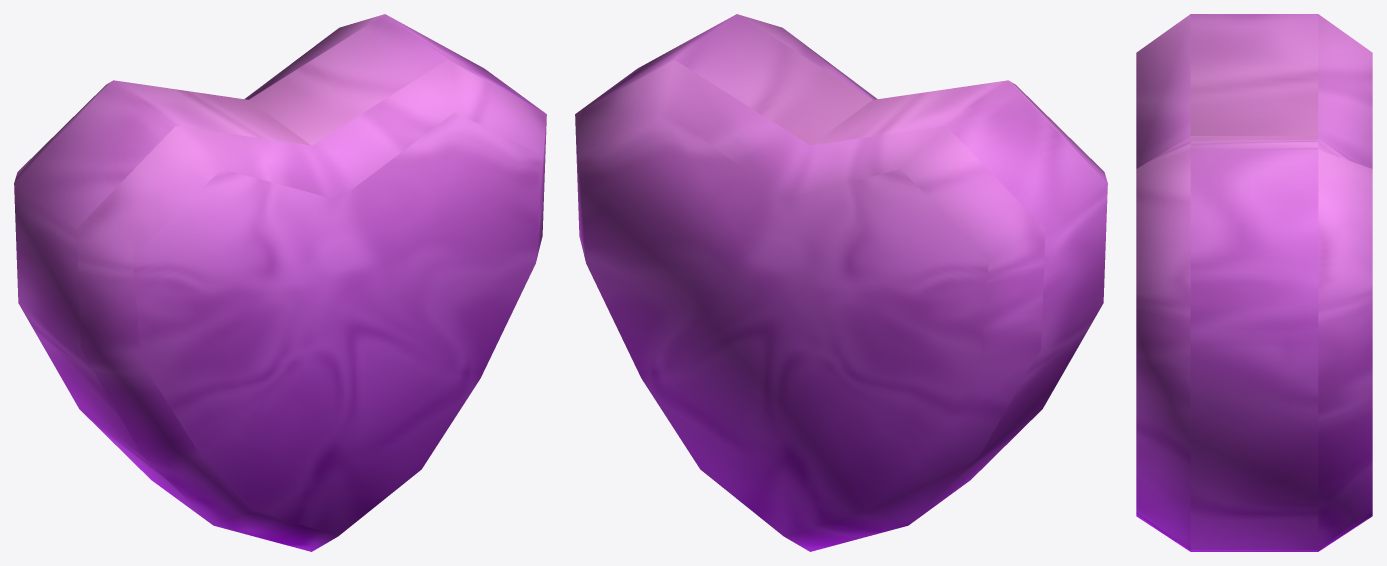
Rendered from candy5.FBX.
The picture shows the model from 3 angles, left to right: view 1: azimuth 30°, elevation 25°; view 2: azimuth 150°, elevation 25°; view 3: azimuth 270°, elevation 25°; orthographic projection. The views are drawn at different scales.
Visible parts, largest first — view 1: candy5; view 2: candy5; view 3: candy5.
Boxes of the visible parts, x1,y1,x2,y2 form: candy5: (14,14,546,551); candy5: (575,14,1107,551); candy5: (1136,14,1372,551).
Bounding box in the file's own units: 19.64 × 18.31 × 8.35.
